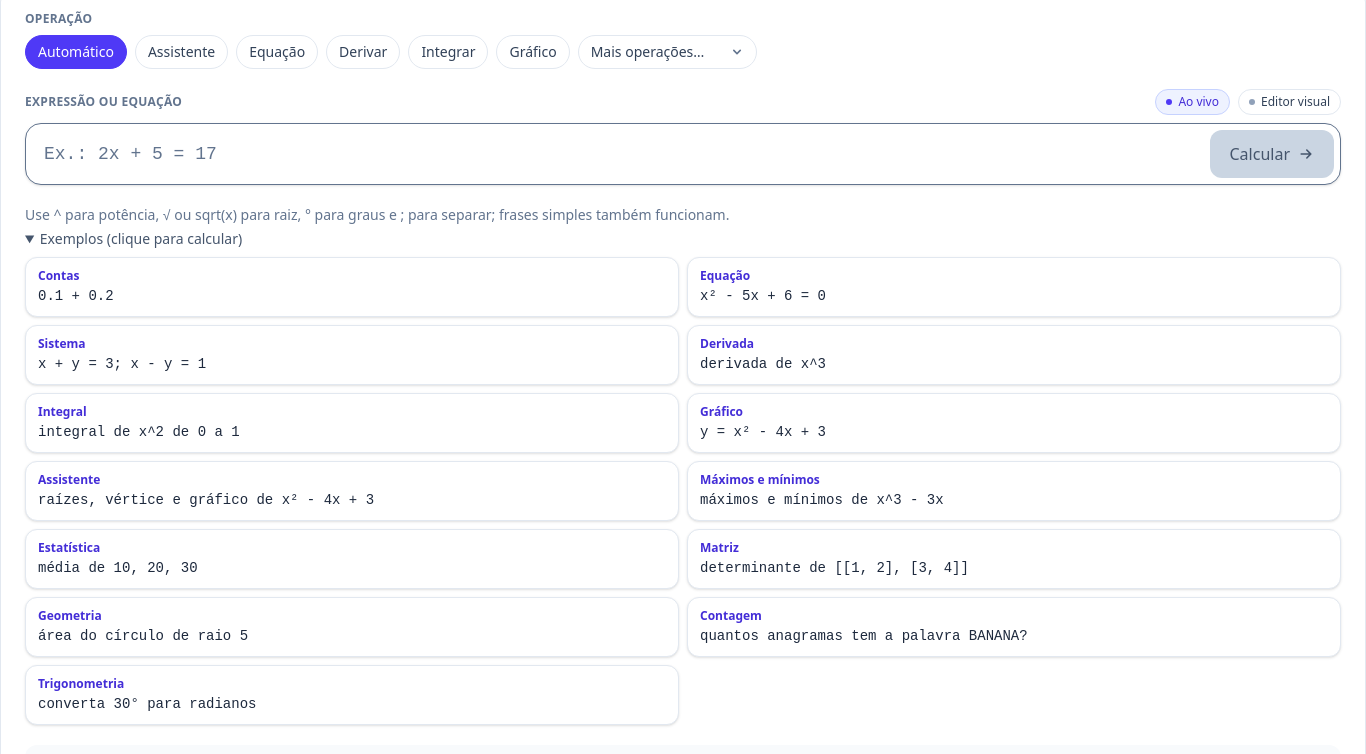
Test: Calculator › shows a timeout as an error
This screenshot has width=1366, height=754.
In the field labelled "Expressão ou equação": (617, 154) [32,130,1202,178], type "(x+1)^1000*(x+2)^1000"
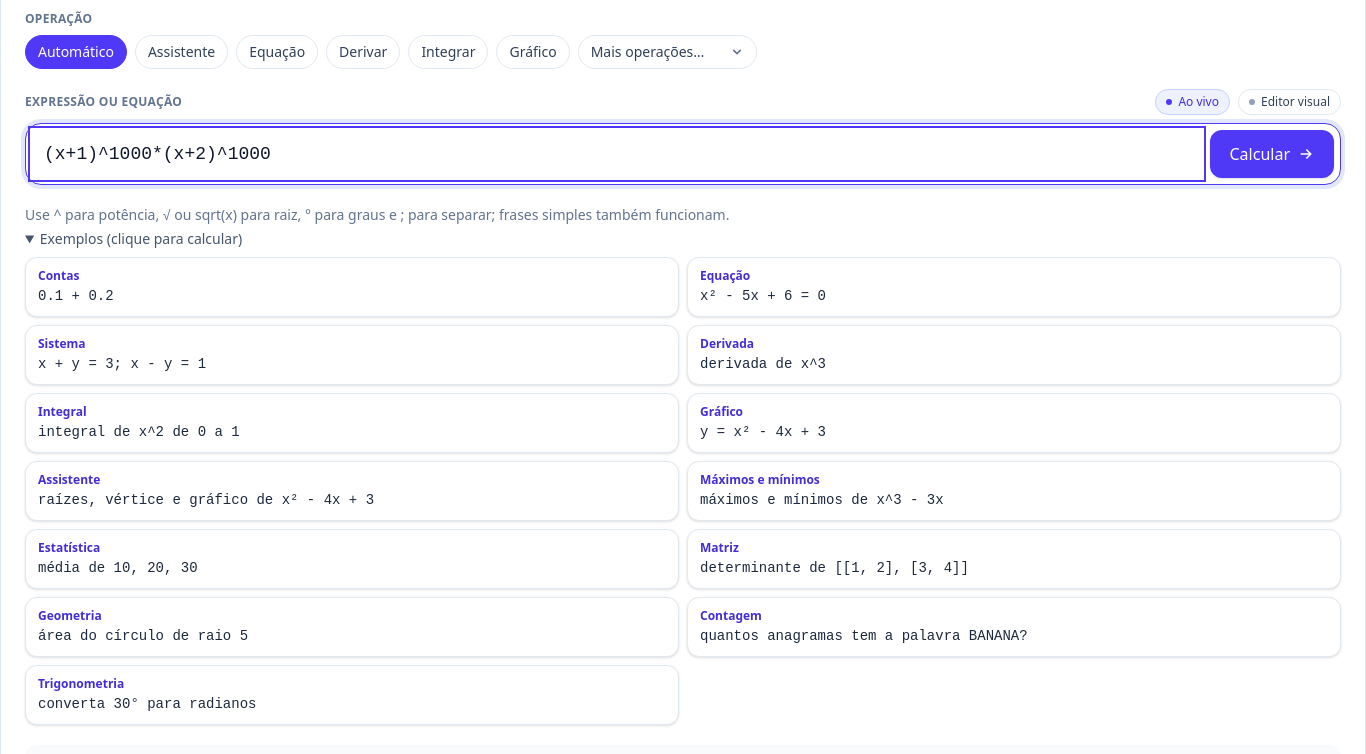
Click the button "Calcular": (1272, 154) [1210,130,1334,178]
(page scrolled)
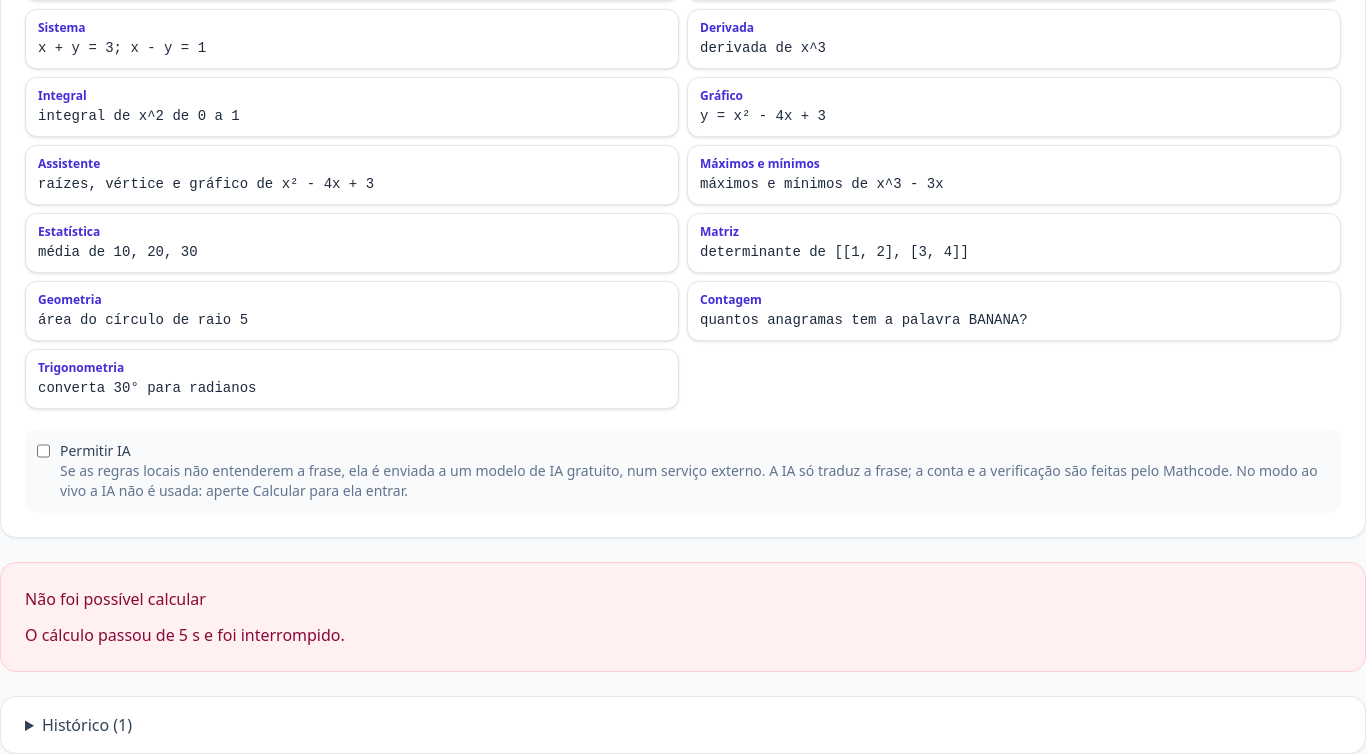
Now the message shows "passou de 5 s", box [25,624,345,646]
